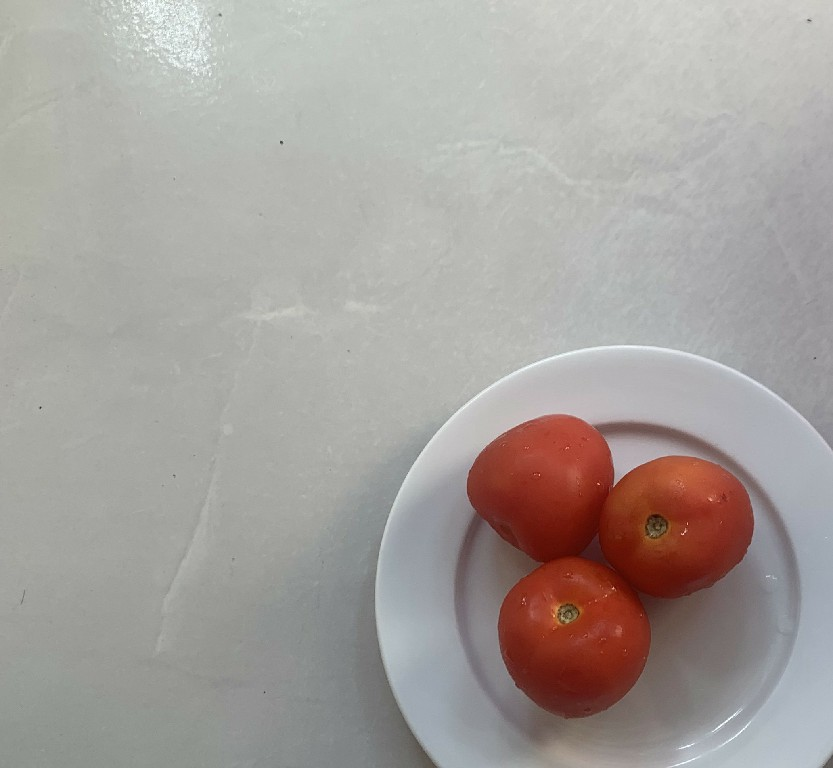OK: (494, 558, 655, 725), (595, 459, 761, 598), (461, 407, 612, 558)
